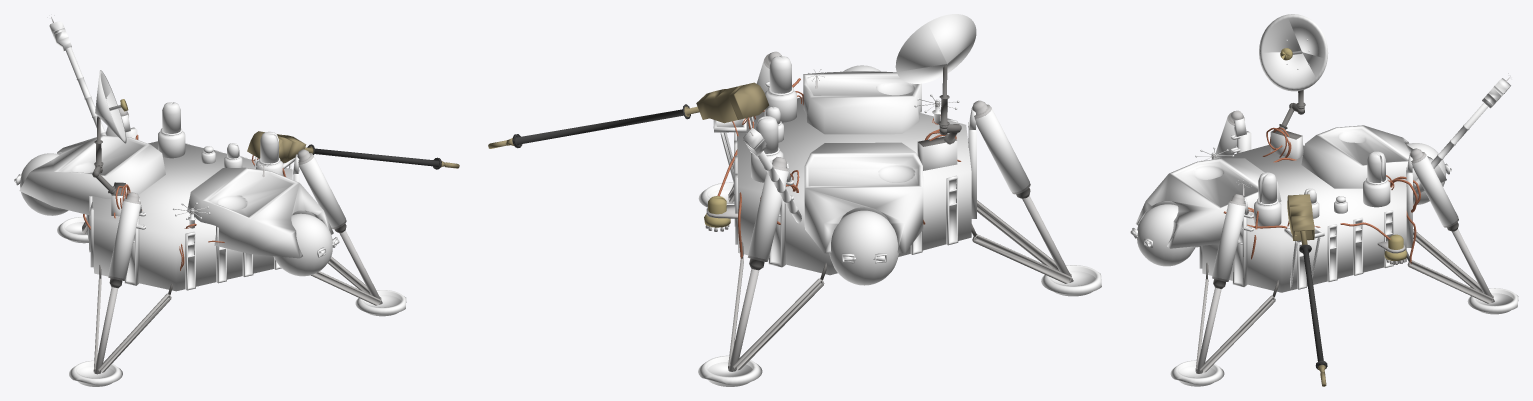
File: viking_lander.glb
3 renders of one model, left to right at view 1: azimuth 30°, elevation 25°; view 2: azimuth 150°, elevation 25°; view 3: azimuth 270°, elevation 25°, orthographic. The views are drawn at different scales.
Parts seen in each view (by area): view 1: polySurfa1, polySurfa2; view 2: polySurfa1, polySurfa2; view 3: polySurfa1, polySurfa2.
Boxes of the visible parts, left/top/right/bottom form: polySurfa1: left=14, top=15, right=459, bottom=386; polySurfa2: left=83, top=134, right=258, bottom=270; polySurfa1: left=488, top=14, right=1101, bottom=386; polySurfa2: left=717, top=94, right=961, bottom=258; polySurfa1: left=1130, top=14, right=1518, bottom=386; polySurfa2: left=1211, top=127, right=1420, bottom=263.
Bounding box in the file's own units: 16.74 × 8.97 × 12.55.
Materials: 4 (4 with a texture image).
